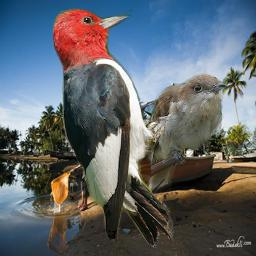Cuckoo: (143, 73, 228, 195)
Woodpecker: (53, 6, 176, 248)
